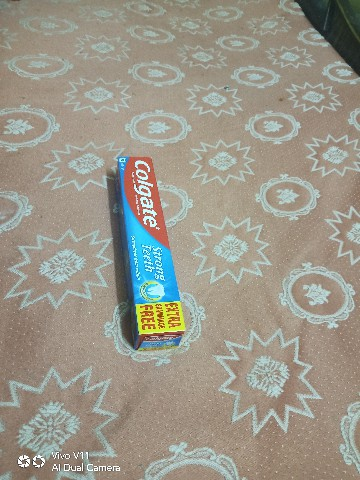colgatetoothpaste big: (96, 140, 205, 369)
